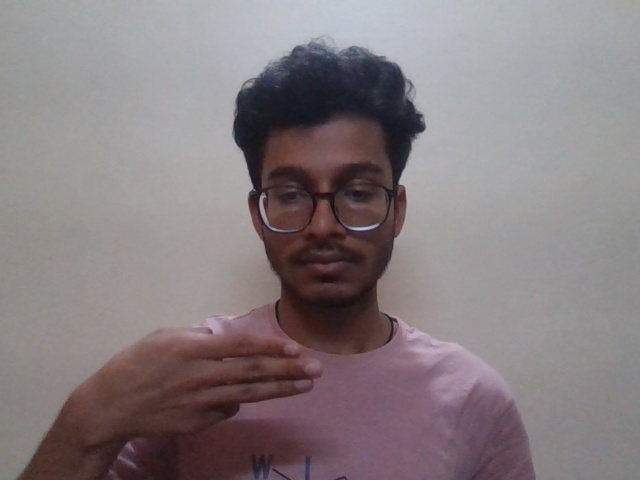wednesday: (88, 320, 335, 433)
